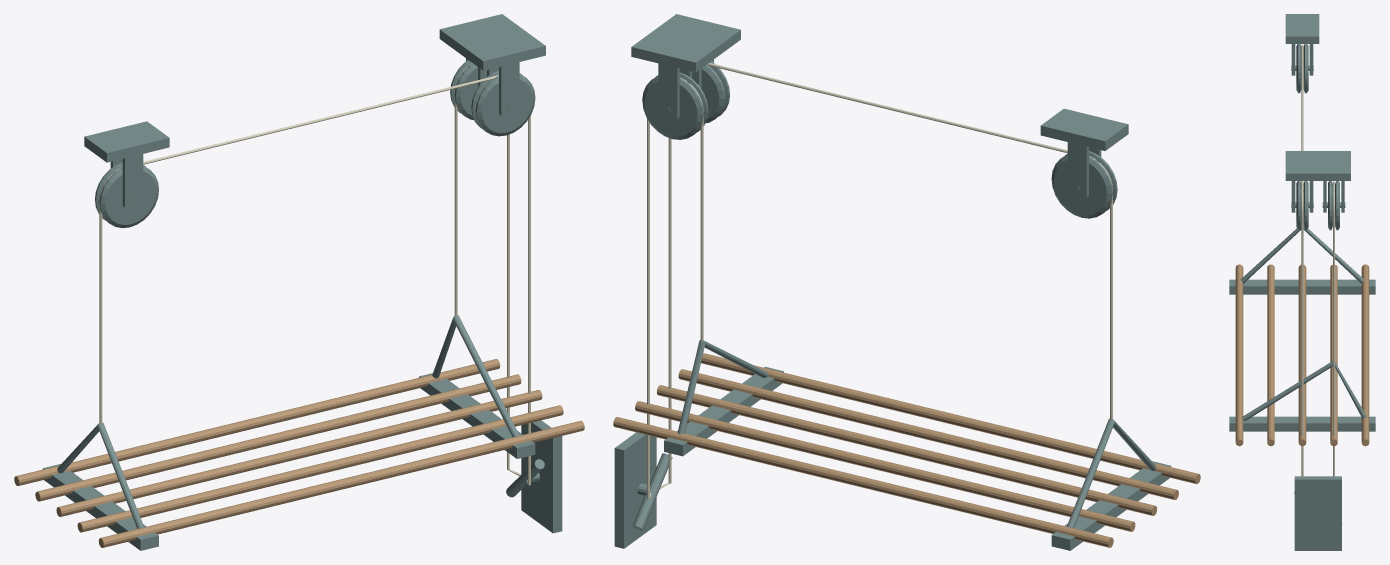
The picture shows the model from 3 angles, left to right: view 1: azimuth 30°, elevation 25°; view 2: azimuth 150°, elevation 25°; view 3: azimuth 270°, elevation 25°; orthographic projection. The views are drawn at different scales.
Visible parts, largest first — view 1: WholeLongDryingRod_0, WholeLongDryingRod_1, WholeLongDryingRod_3, WholeLongDryingRod_2, WholeLongDryingRod_4, WholeDoubleCeilingMountPlate, WholeWallCleatMountPlate, WholeFarLiftCordOverBothPulleys, WholeGroovedCeilingSheave_0, WholeGroovedCeilingSheave_1, WholeSingleCeilingMountPlate, WholeEndCrosshead_0 (+7 smaller); view 2: WholeLongDryingRod_4, WholeLongDryingRod_1, WholeLongDryingRod_3, WholeLongDryingRod_2, WholeLongDryingRod_0, WholeDoubleCeilingMountPlate, WholeWallCleatMountPlate, WholeFarLiftCordOverBothPulleys, WholeGroovedCeilingSheave_2, WholeGroovedCeilingSheave_0, WholeSingleCeilingMountPlate, WholeNearLiftCordOverOwnPulley (+8 smaller); view 3: WholeWallCleatMountPlate, WholeDoubleCeilingMountPlate, WholeEndCrosshead_0, WholeEndCrosshead_1, WholeLongDryingRod_0, WholeLongDryingRod_4, WholeLongDryingRod_1, WholeLongDryingRod_2, WholeFarLiftCordOverBothPulleys, WholeLongDryingRod_3, WholeSingleCeilingMountPlate, WholeTwoLegSuspensionBridle_1 (+5 smaller).
Boxes of the visible parts, left/top/right/bottom form: WholeLongDryingRod_0: left=98, top=421, right=584, bottom=547; WholeLongDryingRod_1: left=77, top=405, right=563, bottom=532; WholeLongDryingRod_3: left=35, top=374, right=521, bottom=501; WholeLongDryingRod_2: left=56, top=390, right=542, bottom=516; WholeLongDryingRod_4: left=14, top=359, right=500, bottom=485; WholeDoubleCeilingMountPlate: left=439, top=14, right=545, bottom=70; WholeWallCleatMountPlate: left=521, top=413, right=562, bottom=533; WholeFarLiftCordOverBothPulleys: left=99, top=75, right=530, bottom=485; WholeGroovedCeilingSheave_0: left=95, top=162, right=158, bottom=228; WholeGroovedCeilingSheave_1: left=471, top=71, right=535, bottom=136; WholeSingleCeilingMountPlate: left=84, top=121, right=169, bottom=162; WholeEndCrosshead_0: left=42, top=464, right=158, bottom=550; WholeLongDryingRod_4: left=613, top=417, right=1113, bottom=547; WholeLongDryingRod_1: left=678, top=369, right=1178, bottom=499; WholeLongDryingRod_3: left=635, top=401, right=1135, bottom=531; WholeLongDryingRod_2: left=657, top=385, right=1157, bottom=515; WholeLongDryingRod_0: left=701, top=353, right=1200, bottom=484; WholeDoubleCeilingMountPlate: left=631, top=14, right=740, bottom=72; WholeWallCleatMountPlate: left=614, top=425, right=656, bottom=548; WholeFarLiftCordOverBothPulleys: left=660, top=63, right=1112, bottom=488; WholeGroovedCeilingSheave_2: left=642, top=72, right=708, bottom=139; WholeGroovedCeilingSheave_0: left=1051, top=151, right=1117, bottom=218; WholeSingleCeilingMountPlate: left=1040, top=108, right=1128, bottom=150; WholeNearLiftCordOverOwnPulley: left=647, top=77, right=703, bottom=499; WholeWallCleatMountPlate: left=1294, top=476, right=1341, bottom=550; WholeDoubleCeilingMountPlate: left=1285, top=151, right=1350, bottom=180; WholeEndCrosshead_0: left=1229, top=279, right=1375, bottom=294; WholeEndCrosshead_1: left=1229, top=416, right=1375, bottom=431; WholeLongDryingRod_0: left=1235, top=264, right=1243, bottom=446; WholeLongDryingRod_4: left=1361, top=264, right=1369, bottom=446; WholeLongDryingRod_1: left=1267, top=264, right=1274, bottom=446; WholeLongDryingRod_2: left=1298, top=265, right=1306, bottom=446; WholeFarLiftCordOverBothPulleys: left=1301, top=44, right=1303, bottom=476; WholeLongDryingRod_3: left=1330, top=264, right=1337, bottom=446; WholeSingleCeilingMountPlate: left=1285, top=14, right=1319, bottom=43; WholeTwoLegSuspensionBridle_1: left=1242, top=361, right=1366, bottom=420.
Bounding box in the file's own units: 1.9 × 1.81 × 0.65.
